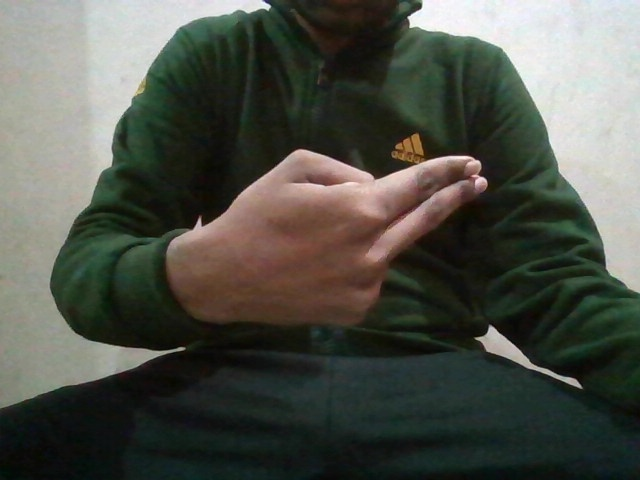H: (184, 146, 497, 328)
